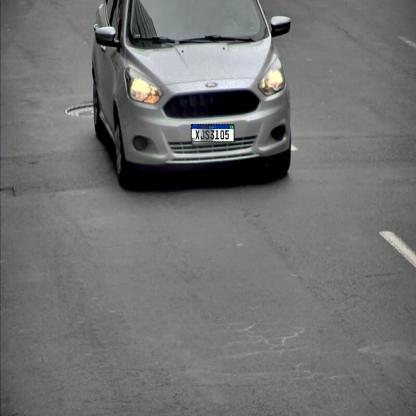PlacaM: (191, 124, 234, 142)
